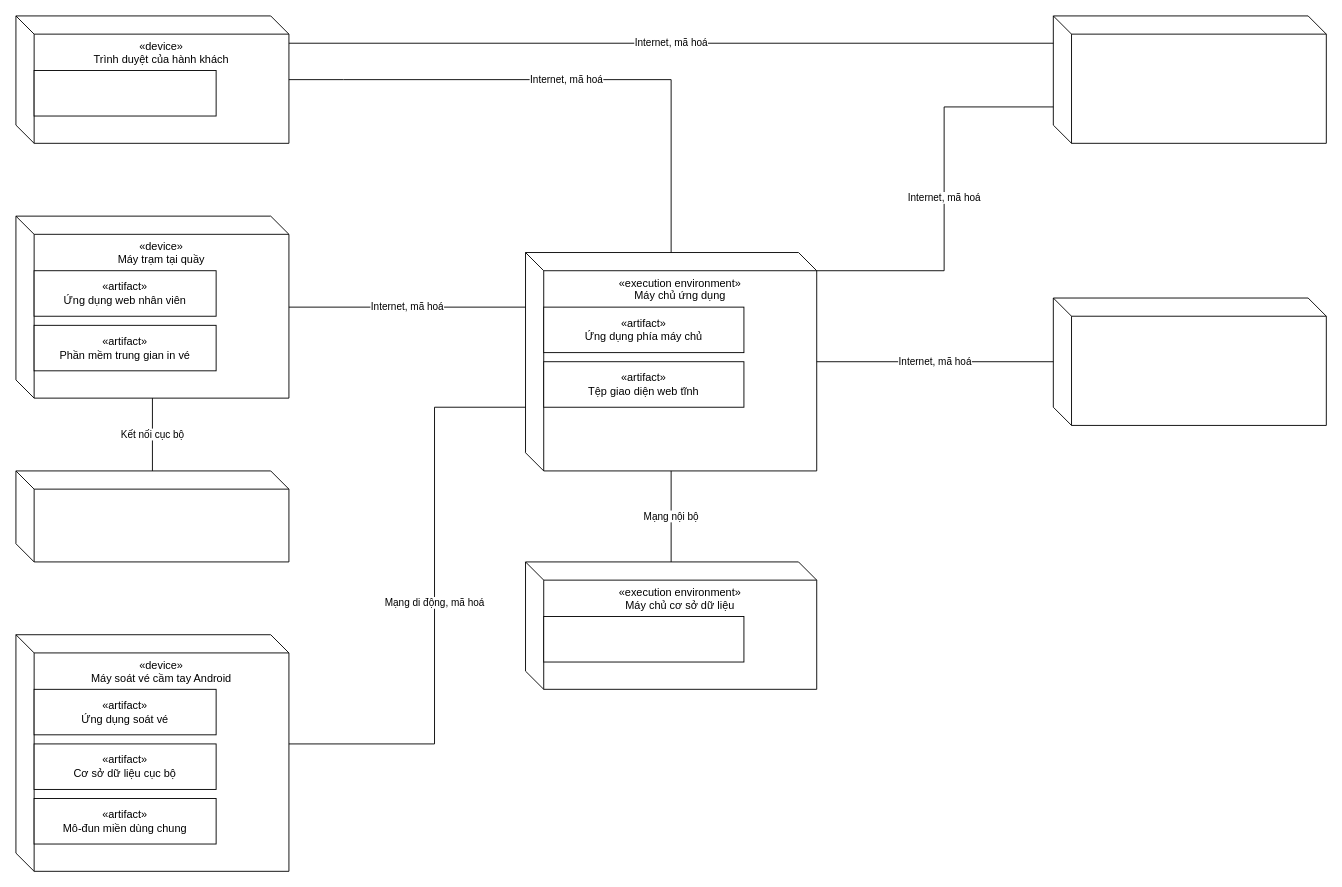
Some shapes in this 1342 by 887 pixel diagram are drawn without their labels. The centre of each missing label's shape, as x and y in pixels:
«artifact» Cơ sở dữ liệu của hệ thống: (x=643, y=639)
«artifact» Ứng dụng web hành khách: (x=124, y=93)
«device» Máy in vé nhiệt: (x=152, y=516)
«external system» Cổng SMS của nhà mạng: (x=1189, y=361)
«external system» Cổng thanh toán của đối tác: (x=1189, y=79)
